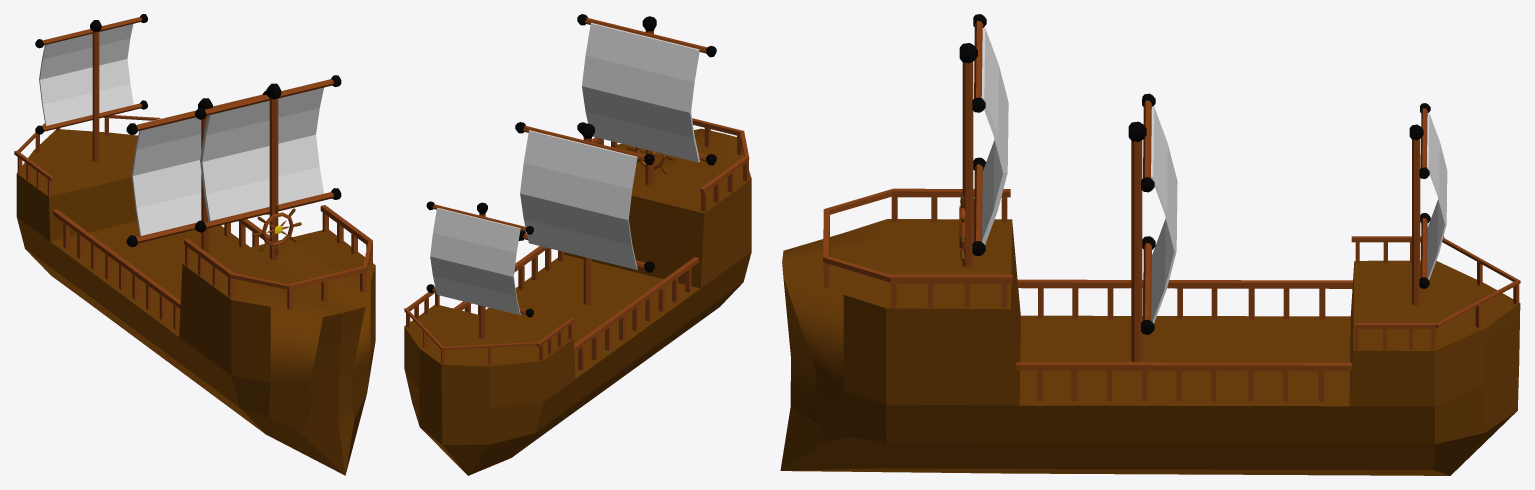
Rendered from ReworkedShip2.fbx.
The picture shows the model from 3 angles, left to right: view 1: azimuth 30°, elevation 25°; view 2: azimuth 150°, elevation 25°; view 3: azimuth 270°, elevation 25°; orthographic projection. The views are drawn at different scales.
Visible parts, largest first — view 1: Cube.001, Sphere; view 2: Cube.001; view 3: Cube.001.
Boxes of the visible parts, x1=… form: Cube.001: x1=14, y1=14, x2=375, y2=475; Sphere: x1=252, y1=204, x2=301, y2=255; Cube.001: x1=404, y1=14, x2=751, y2=475; Cube.001: x1=780, y1=14, x2=1520, y2=475.
Size of the model in its own units: 205 by 449 by 696.
